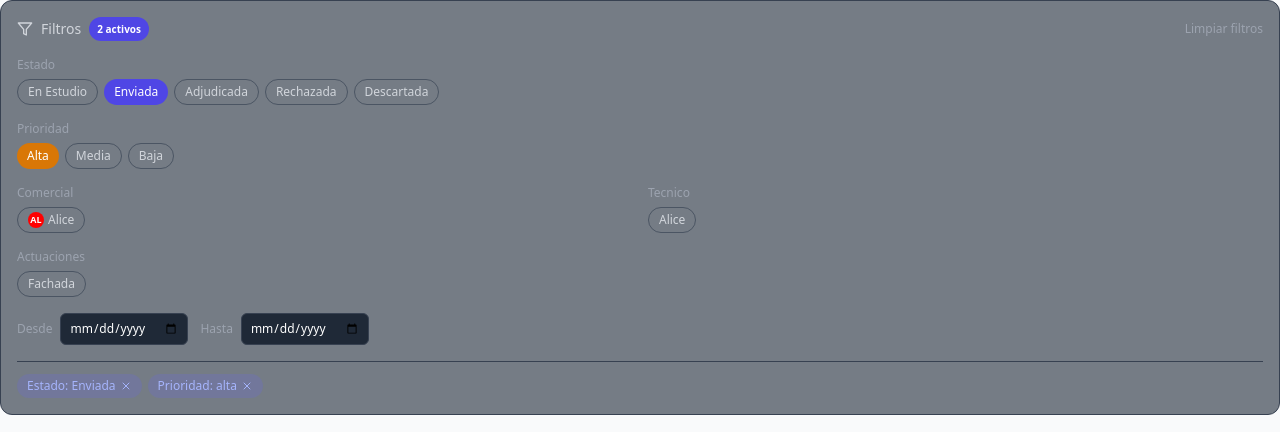
Test: SolicitudesFilters › boton limpiar quita todos los chips activos
The width and height of the screenshot is (1280, 432).
Expected: the text "Estado: Enviada" is shown, x1=17 y1=374 x2=142 y2=398
Click the button "Limpiar filtros" at x=1224, y=29, box x1=1185 y1=21 x2=1263 y2=37
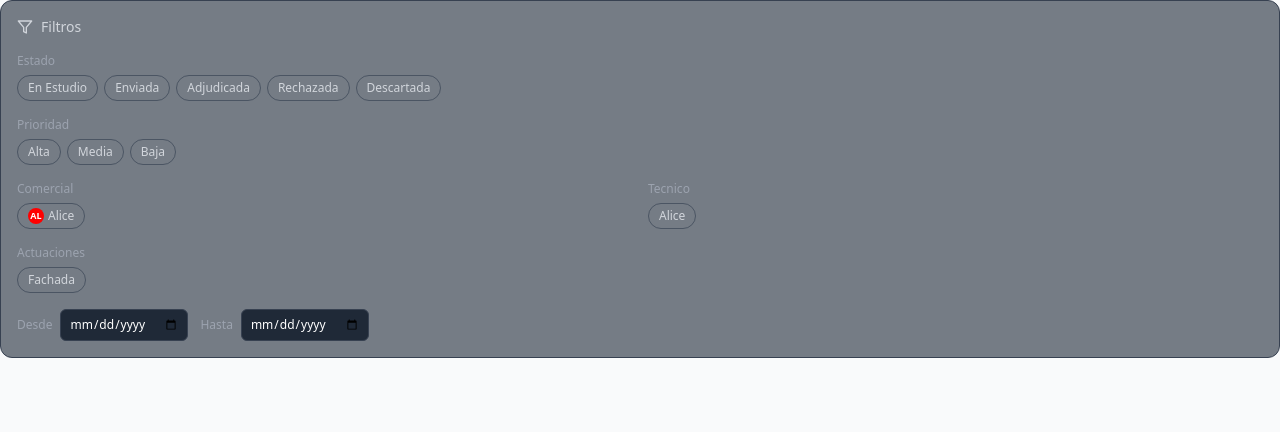
Now the text "Estado: Enviada" is gone
Now the text "Prioridad: alta" is gone
